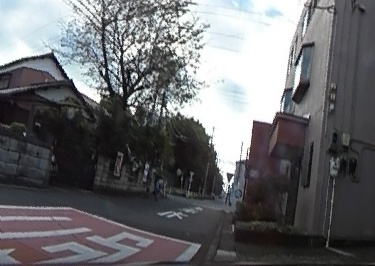person: (152, 174, 164, 199)
